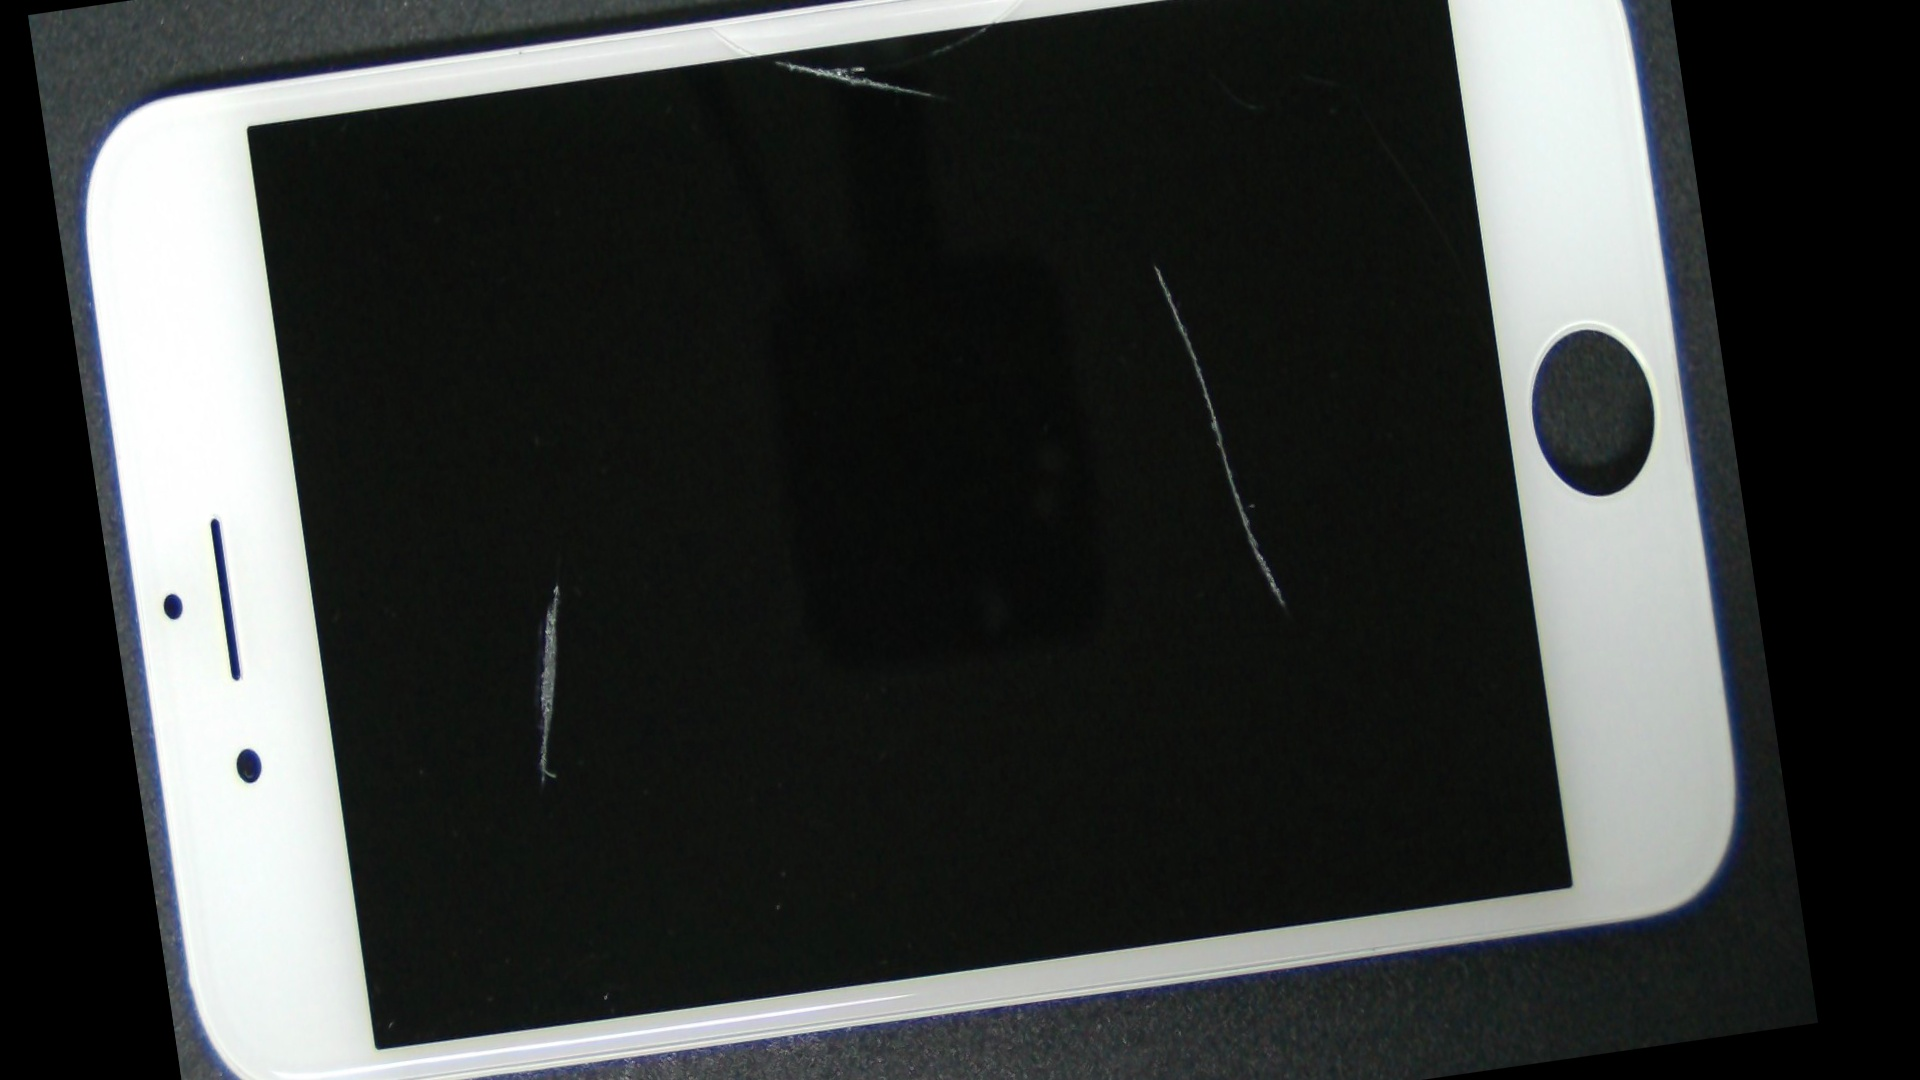oil: (591, 0, 1717, 543), (294, 233, 822, 928), (401, 0, 1149, 187)
